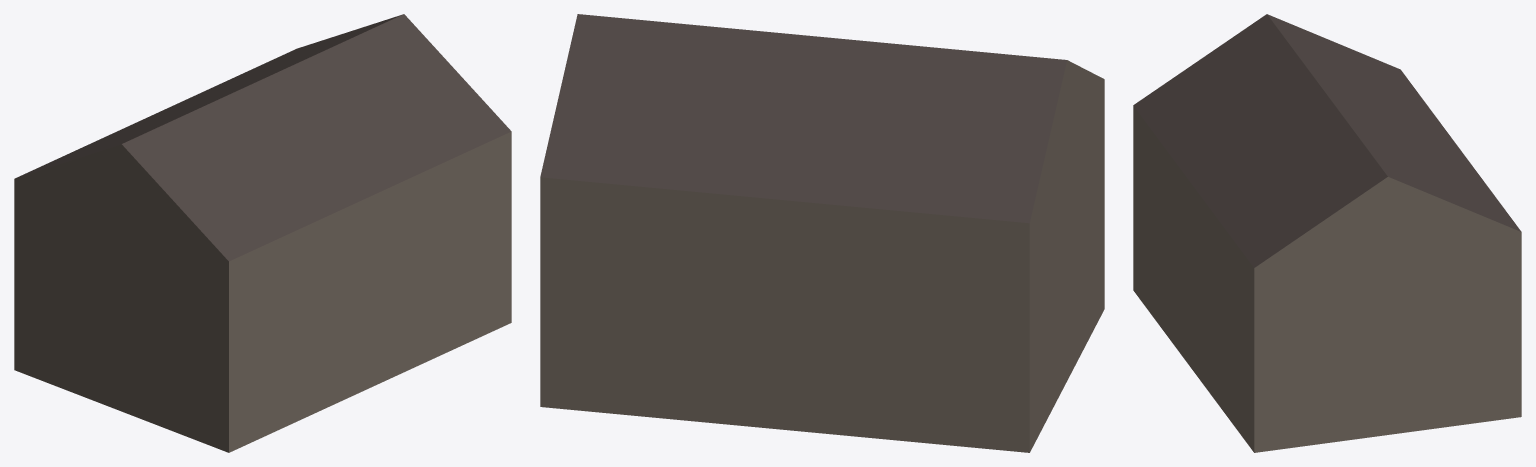
The picture shows the model from 3 angles, left to right: view 1: azimuth 30°, elevation 25°; view 2: azimuth 150°, elevation 25°; view 3: azimuth 270°, elevation 25°; orthographic projection. The views are drawn at different scales.
Visible parts, largest first — view 1: HP-w859082513; view 2: HP-w859082513; view 3: HP-w859082513.
Boxes of the visible parts, x1,y1,x2,y2 form: HP-w859082513: (14,14,511,452); HP-w859082513: (540,14,1104,452); HP-w859082513: (1133,14,1521,452).
Size of the model in its own units: 20.74 by 12.58 by 17.15.
